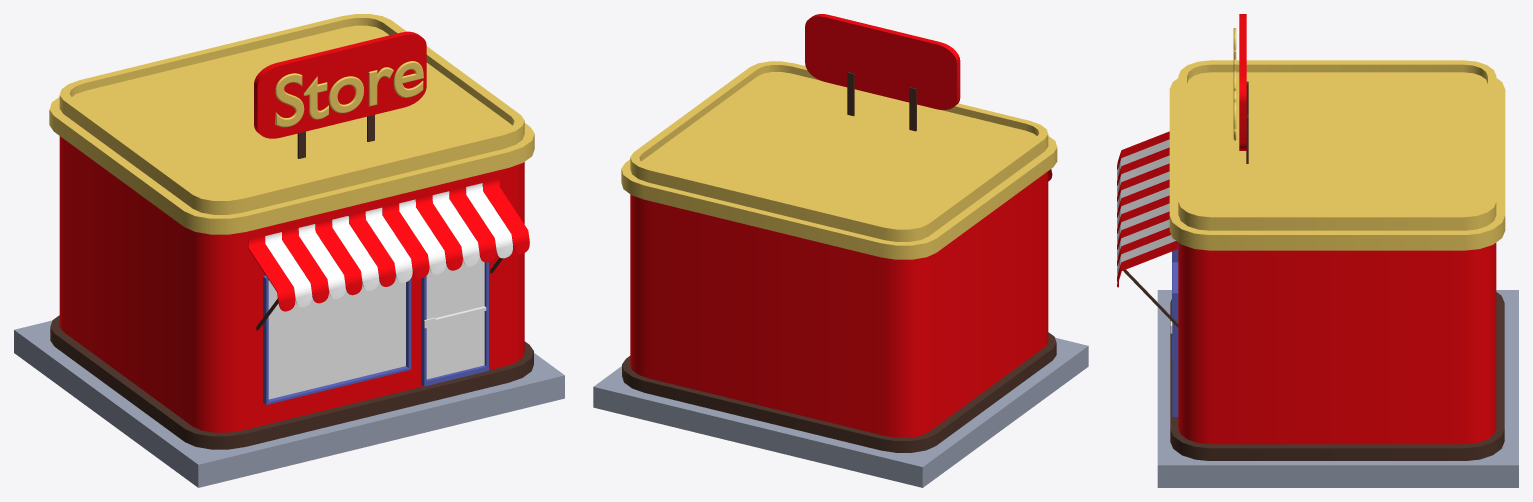
The model's file is Store3.fbx.
3 renders of one model, left to right at view 1: azimuth 30°, elevation 25°; view 2: azimuth 150°, elevation 25°; view 3: azimuth 270°, elevation 25°, orthographic. The views are drawn at different scales.
Visible parts, largest first — view 1: Cube.008; view 2: Cube.008; view 3: Cube.008.
Part boxes in pixels (bbox=[...]): Cube.008: bbox=[14, 14, 564, 487]; Cube.008: bbox=[593, 14, 1088, 487]; Cube.008: bbox=[1117, 14, 1518, 487].
Size of the model in its own units: 462 by 436 by 448.
